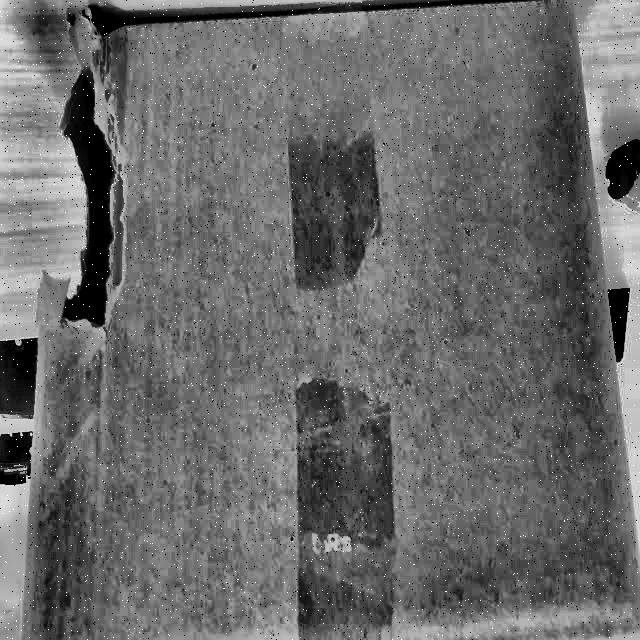box: (17, 1, 639, 640)
hole: (37, 20, 137, 340)
